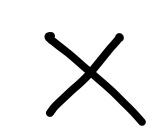mult: (44, 32, 146, 126)
